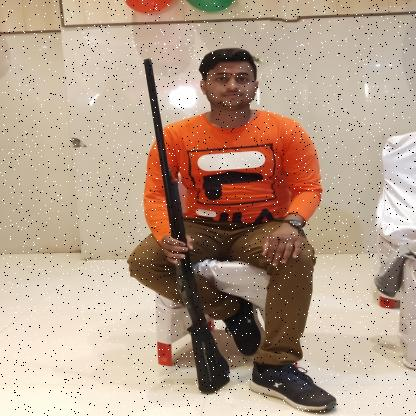rifle: (141, 56, 234, 398)
